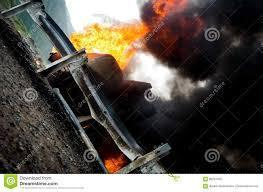fire: (71, 11, 160, 68), (137, 0, 190, 29), (101, 145, 131, 171)
